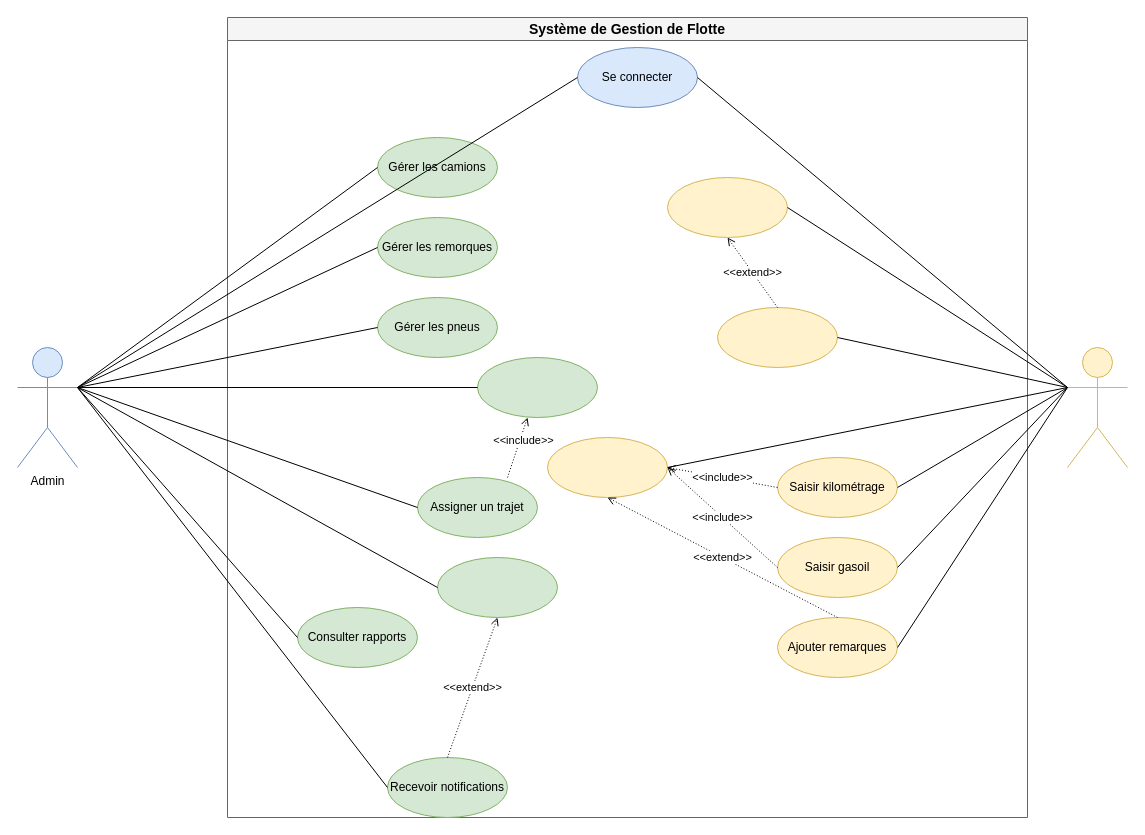
This 1145x835 diagram has some shape labels left out. Each missing label, with the centre of its shape:
"Chauffeur" goes at (1097,407).
"Consulter trajets assignés" goes at (727,207).
"Créer un trajet" goes at (537,387).
"Définir règles maintenance" goes at (497,587).
"Mettre à jour statut" goes at (607,467).
"Télécharger PDF" goes at (777,337).
